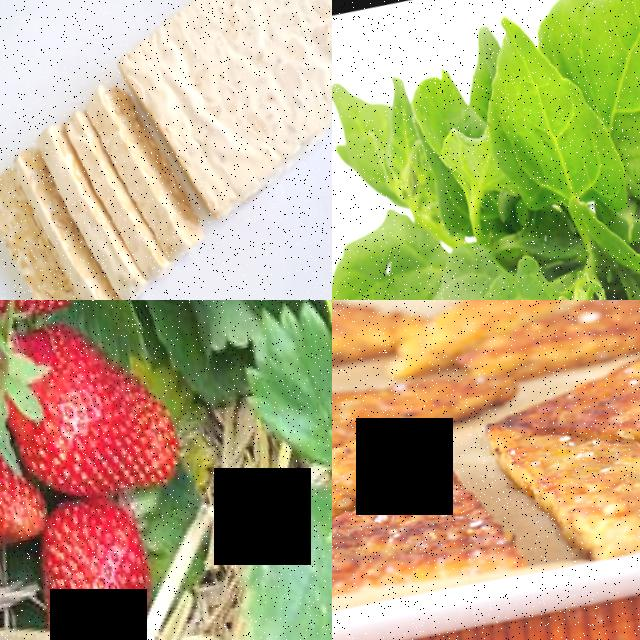spinach: (479, 68, 630, 226), (574, 0, 640, 201), (332, 202, 445, 300), (416, 248, 567, 300)
strawberry: (0, 300, 188, 507), (41, 486, 163, 637)
tempeh: (118, 0, 332, 228), (17, 75, 186, 300), (0, 160, 57, 300)
